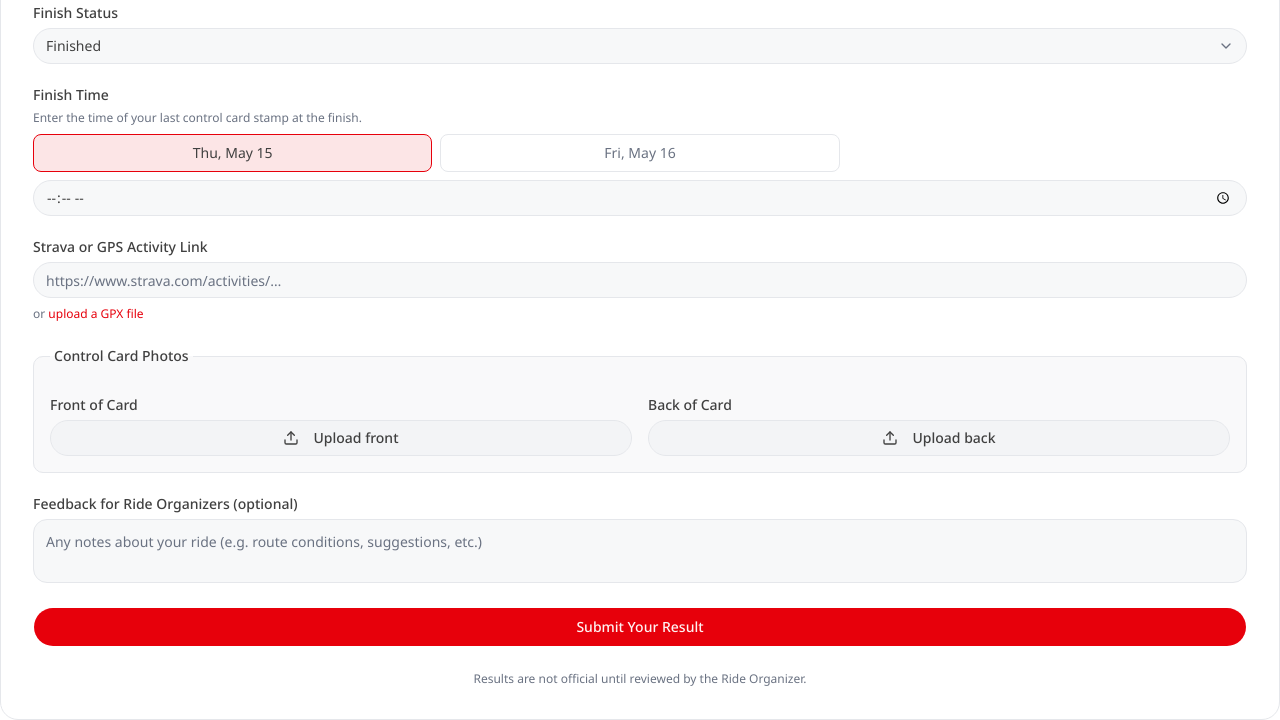
Test case: ResultSubmissionForm › finish time validation › shows an inline error naming AM/PM when the finish time is empty on submit
The width and height of the screenshot is (1280, 720).
(page scrolled)
Click the button "Submit Your Result": (640, 627) [33,607,1247,647]
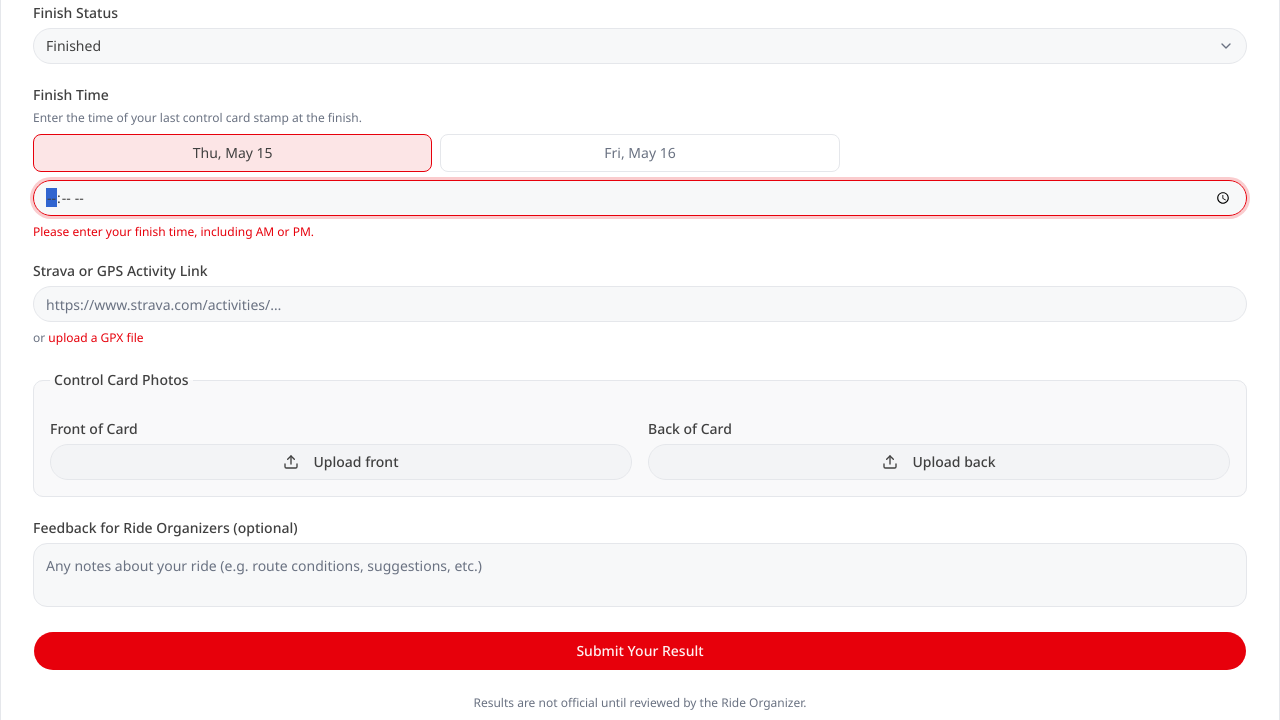
Check: the text "Please enter your finish time, including AM or PM." is shown, box [33,223,314,240]
